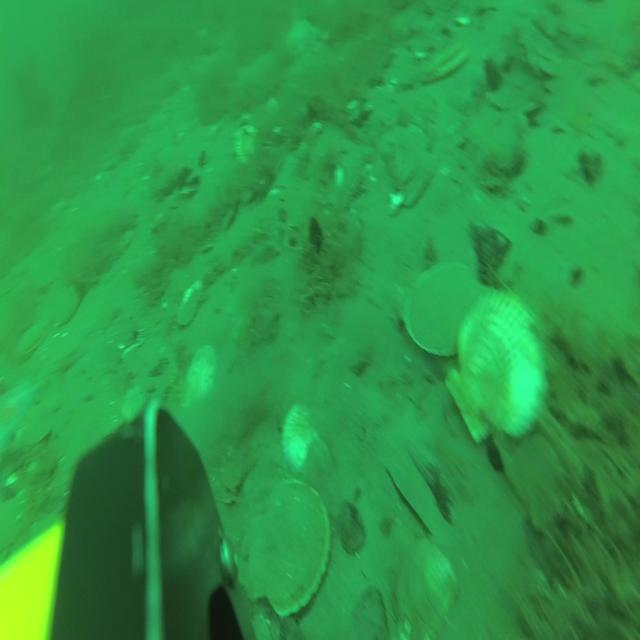scallop: (444, 287, 544, 444), (239, 487, 328, 614), (403, 262, 483, 356), (394, 527, 459, 639), (282, 395, 312, 468), (398, 150, 434, 206), (391, 119, 424, 177), (182, 346, 214, 404), (52, 280, 87, 332), (422, 42, 467, 82), (177, 277, 203, 325), (232, 124, 260, 166), (12, 323, 40, 359), (306, 445, 332, 482), (120, 389, 144, 424)
starfish: (2, 377, 36, 459), (284, 17, 321, 51)
